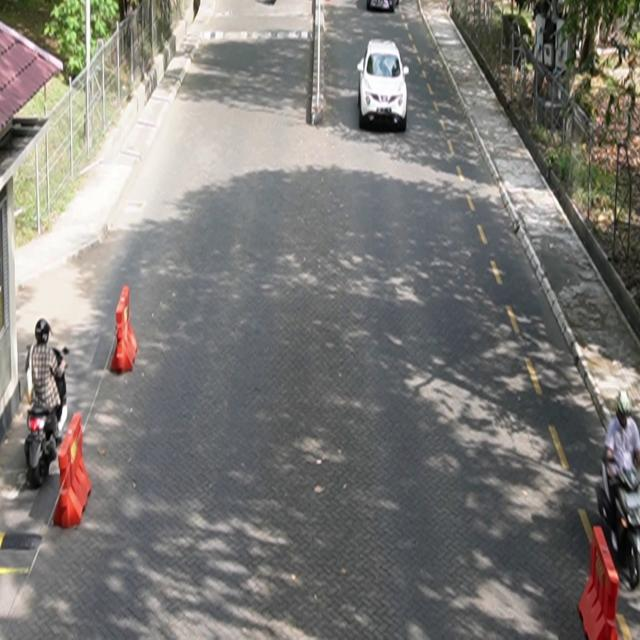car: (358, 39, 410, 133)
